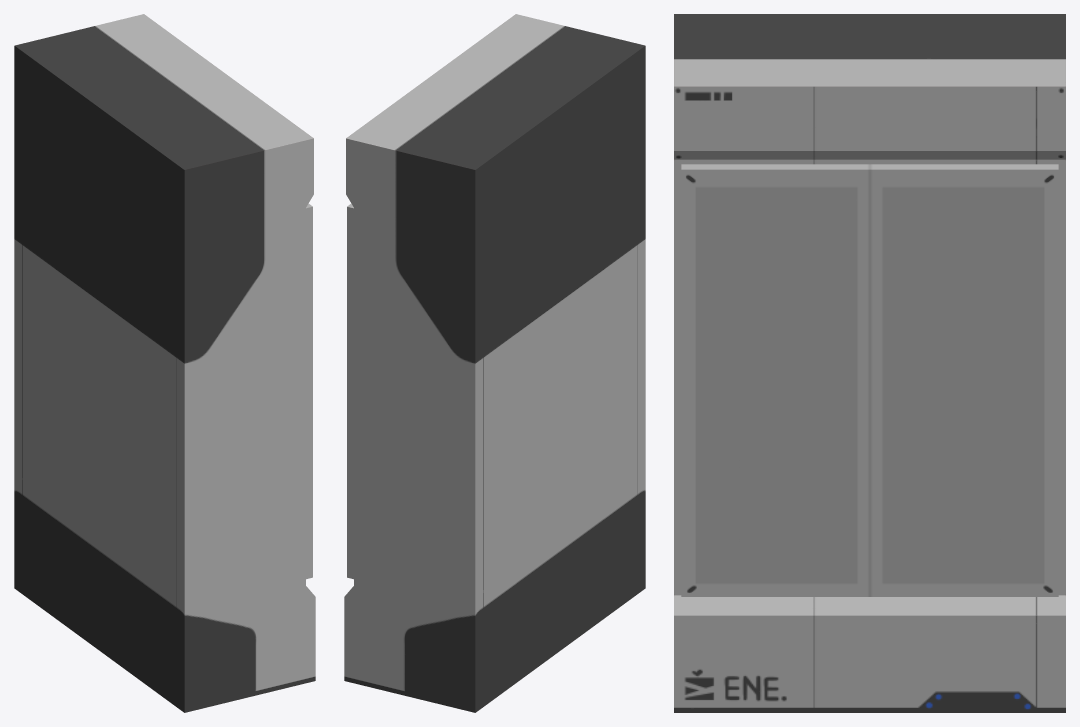
File: Wardrobe.fbx
The picture shows the model from 3 angles, left to right: view 1: azimuth 30°, elevation 25°; view 2: azimuth 150°, elevation 25°; view 3: azimuth 270°, elevation 25°; orthographic projection. The views are drawn at different scales.
Parts seen in each view (by area): view 1: wardrobe, RDoor; view 2: wardrobe, LDoor; view 3: wardrobe, RDoor, LDoor.
Boxes of the visible parts, x1,y1,x2,y2 form: wardrobe: (14, 14, 315, 712); RDoor: (306, 203, 312, 579); wardrobe: (344, 14, 645, 712); LDoor: (347, 203, 353, 579); wardrobe: (674, 14, 1065, 712); RDoor: (681, 164, 869, 596); LDoor: (870, 164, 1058, 596).
Size of the model in its own units: 1.08 by 4.27 by 2.42.
